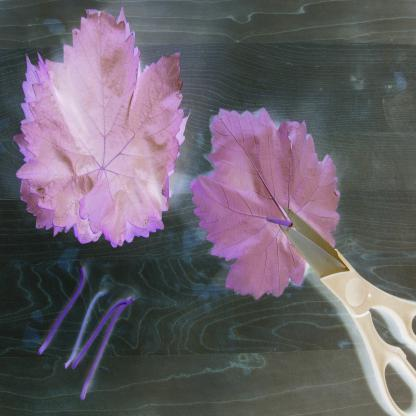grape leaf black rot: (21, 7, 192, 252), (188, 97, 340, 279)
